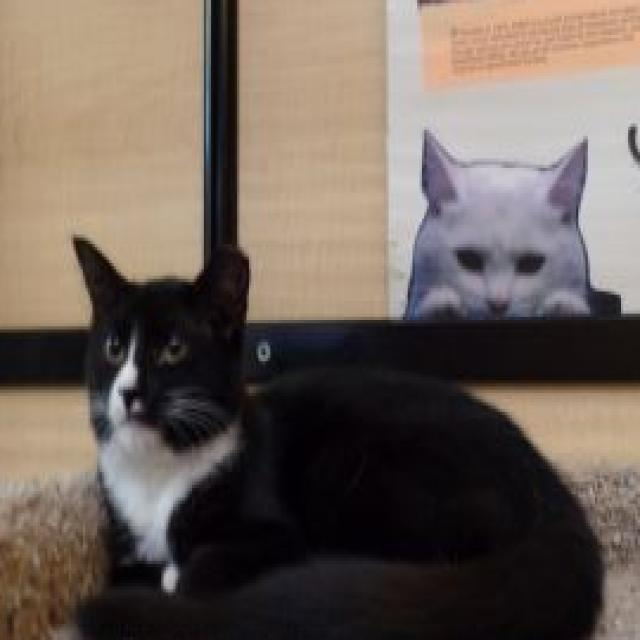Tuxedo: (66, 231, 604, 640)
